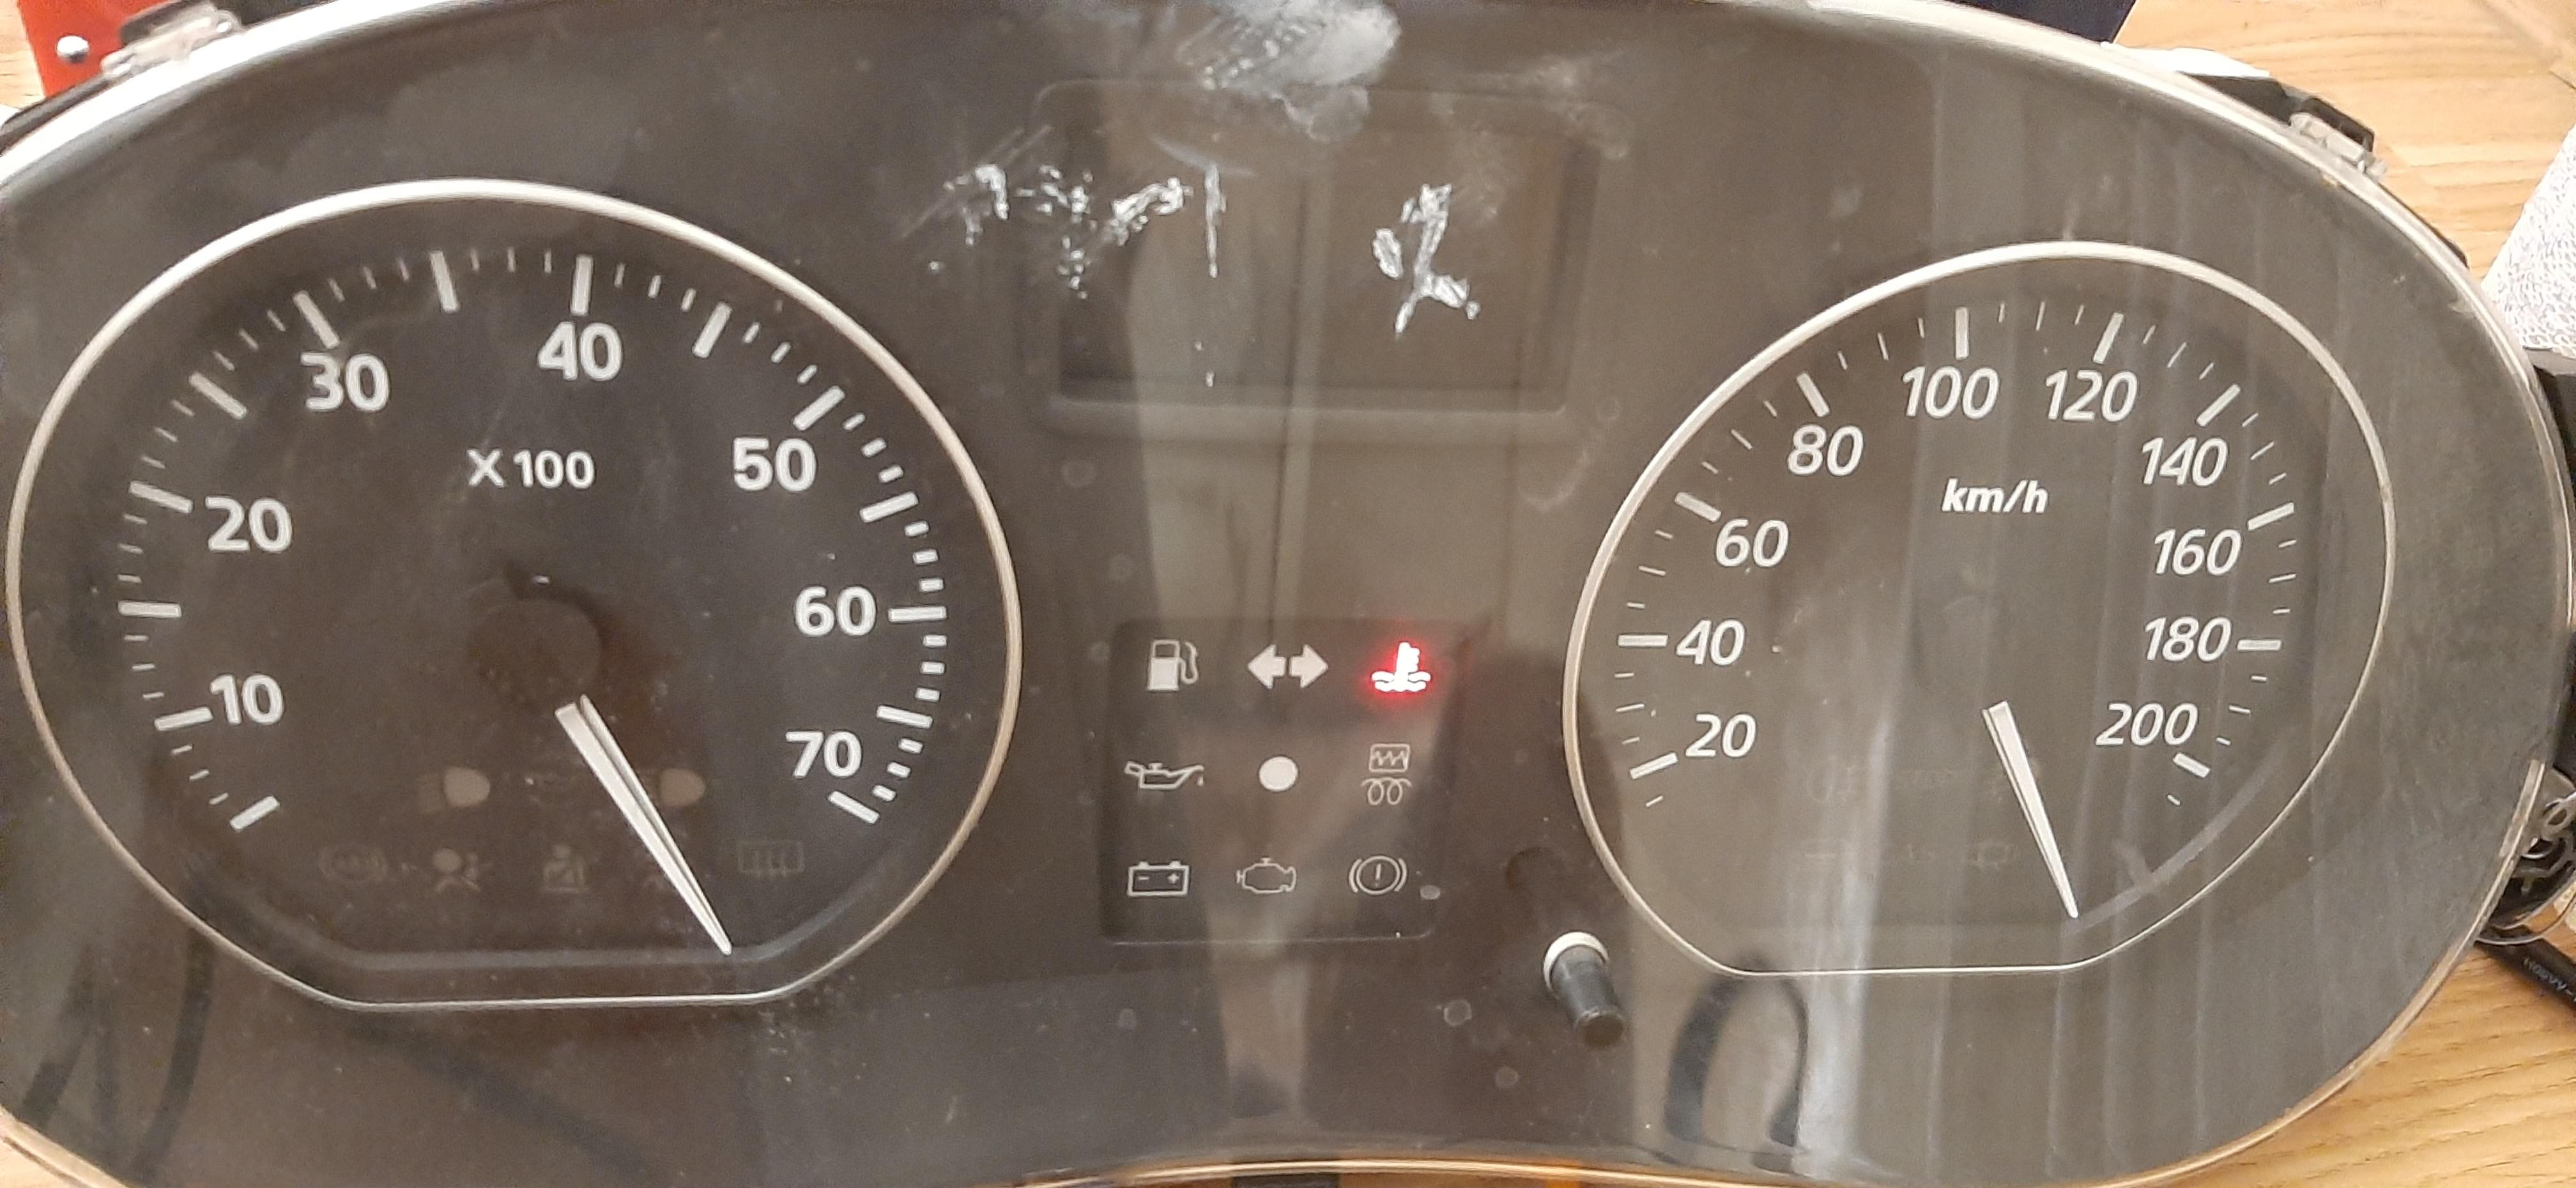Engine Overheating8: (1368, 639, 1433, 695)
